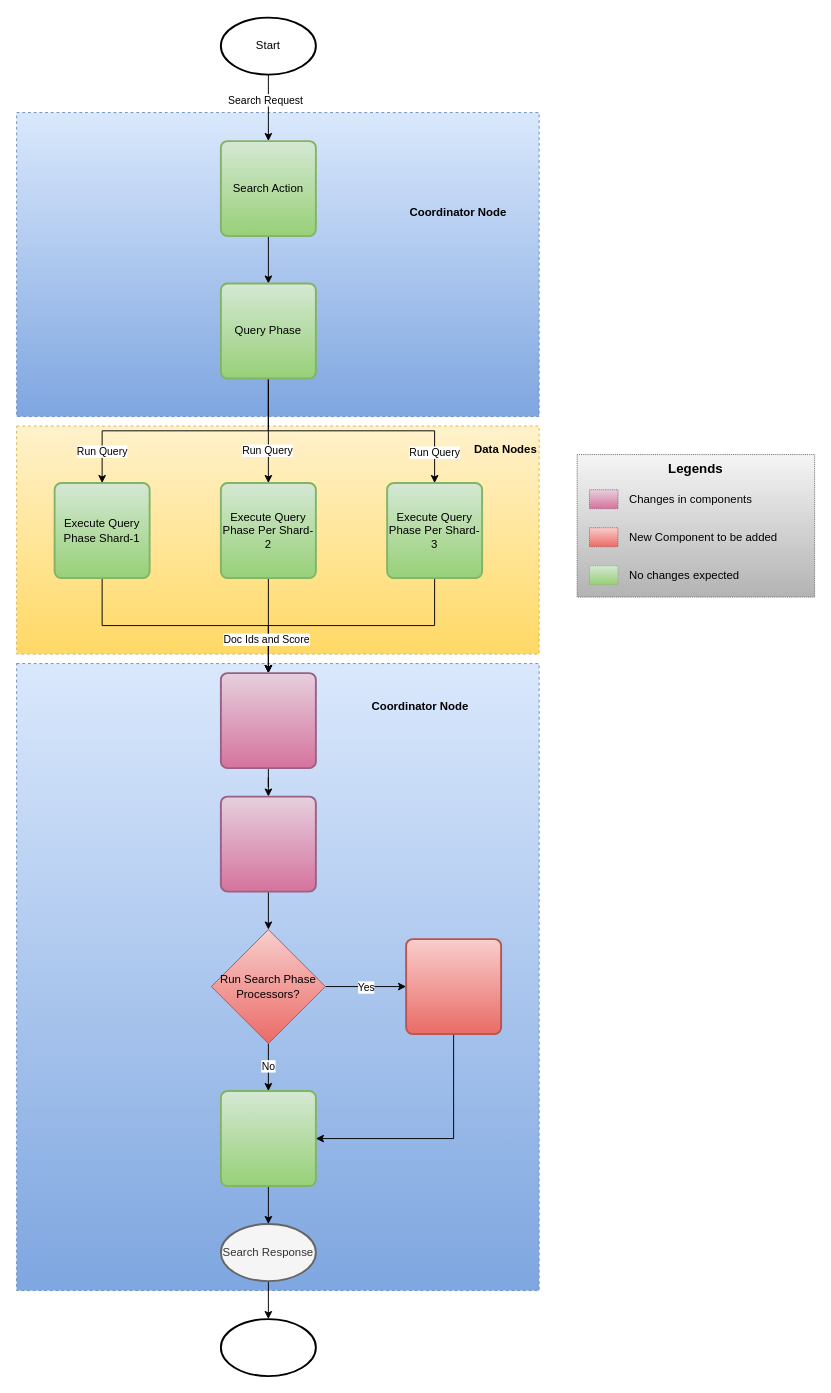
The diagram is 831 pixels wide and 1393 high, and some of its shapes have lost their labels. The box of each missing label's shape, as (x1, y1, x2, y2) in pixels:
End: (219, 1318, 316, 1377)
Fetch Phase: (219, 1090, 316, 1187)
Query Phase Done: (219, 672, 316, 769)
Run Search Phase Processors sequentially: (405, 938, 502, 1035)
Search Pipeline Service: (219, 795, 316, 892)
